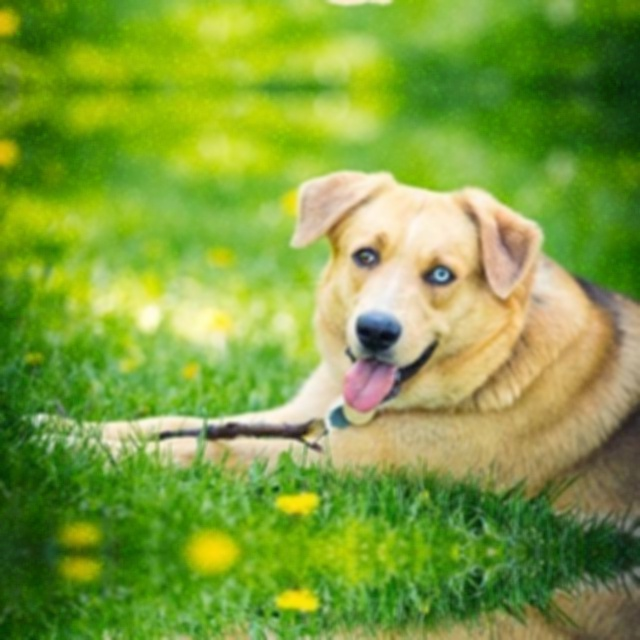dog: (278, 155, 543, 445), (279, 0, 544, 21)
